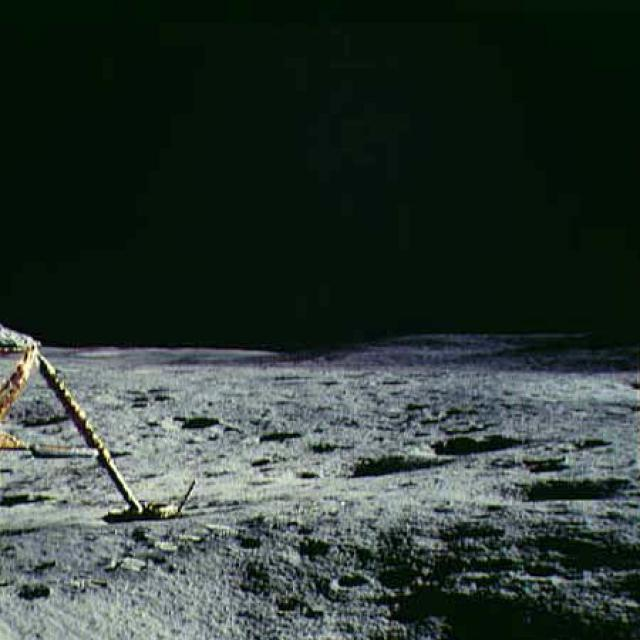crater: (465, 468, 639, 508), (324, 446, 450, 486), (424, 419, 531, 461), (150, 410, 229, 438), (281, 531, 342, 565), (316, 566, 379, 597), (246, 422, 312, 443), (212, 529, 272, 551), (246, 456, 281, 469)
